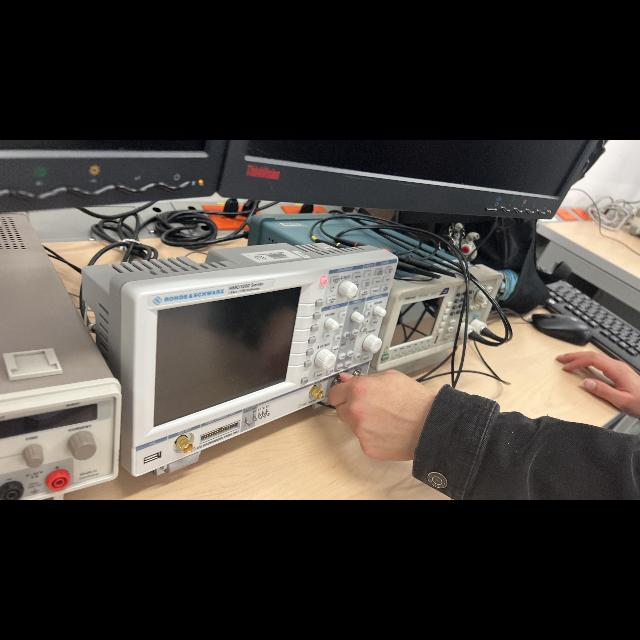Digital-Oscilloscope: (82, 243, 397, 476)
